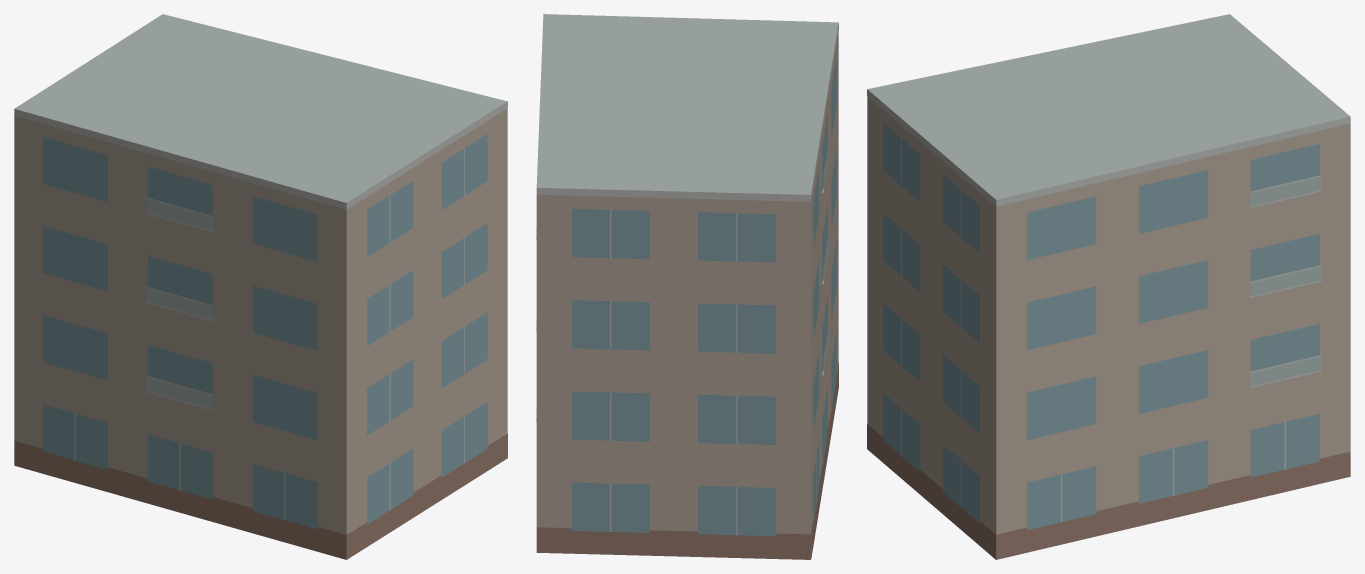
The model's file is survey-upis-32741625.glb.
3 renders of one model, left to right at view 1: azimuth 30°, elevation 25°; view 2: azimuth 150°, elevation 25°; view 3: azimuth 270°, elevation 25°, orthographic. The views are drawn at different scales.
Parts seen in each view (by area): view 1: survey-upis-32741625.tmp; view 2: survey-upis-32741625.tmp; view 3: survey-upis-32741625.tmp.
Boxes of the visible parts, x1=… form: survey-upis-32741625.tmp: x1=14, y1=14, x2=507, y2=559; survey-upis-32741625.tmp: x1=536, y1=14, x2=838, y2=559; survey-upis-32741625.tmp: x1=867, y1=14, x2=1350, y2=559.
Size of the model in its own units: 14.29 by 12.9 by 15.71.
